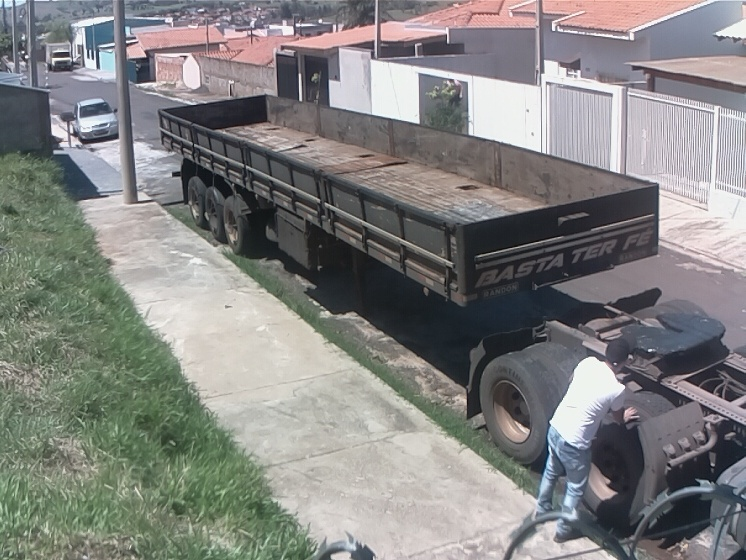person: (525, 339, 641, 543)
